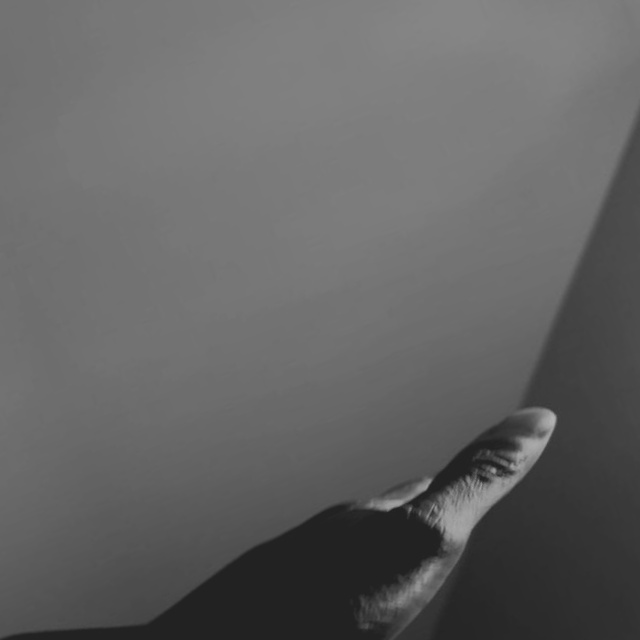Paper: (0, 555, 193, 640)
